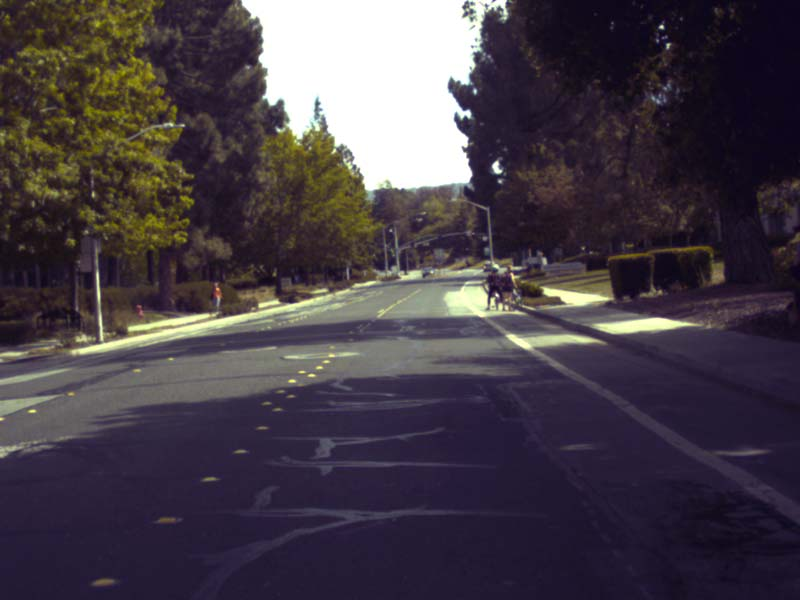Yellow: (470, 231, 475, 235)
